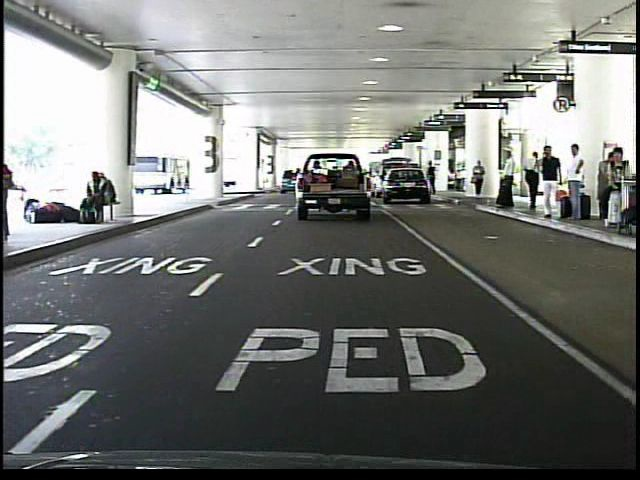person: (565, 138, 592, 230), (536, 142, 564, 222), (494, 149, 520, 213), (520, 146, 543, 213), (471, 159, 487, 202), (427, 160, 439, 198)
